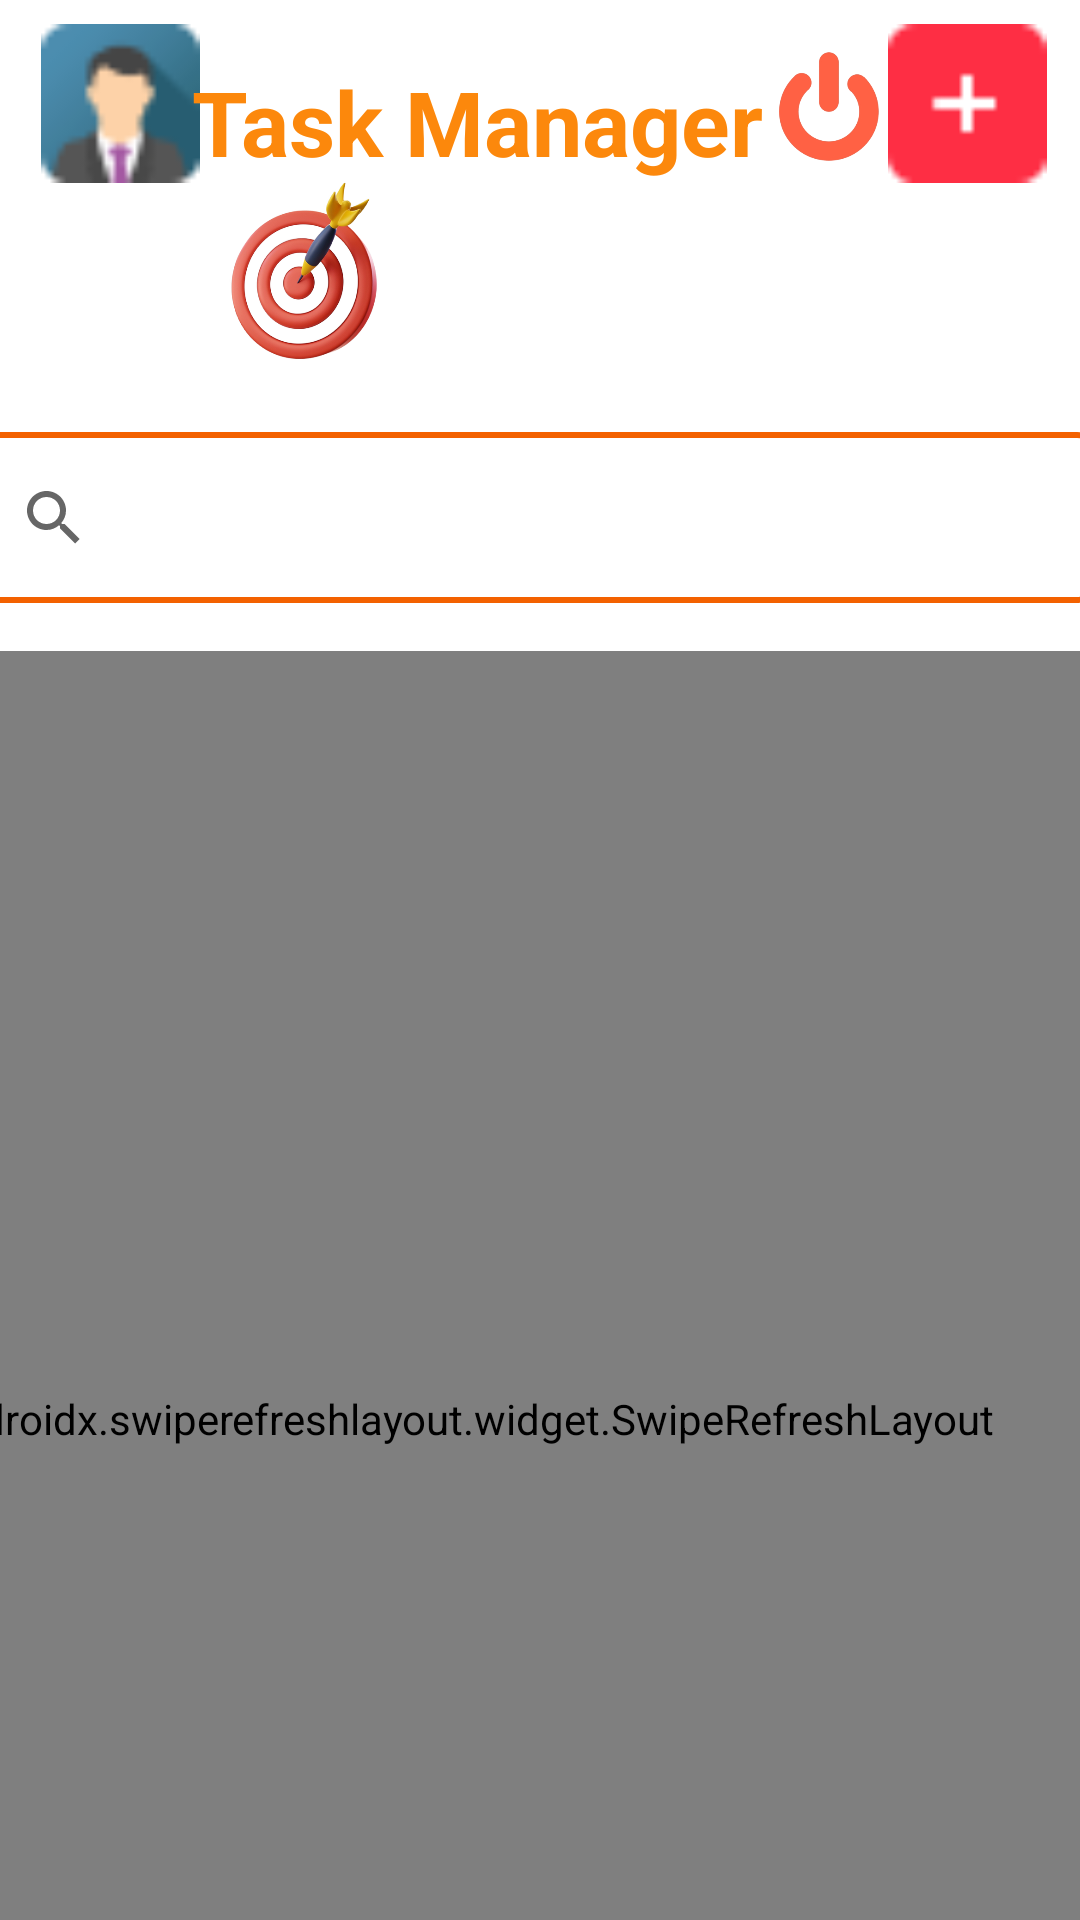

Icons on this 1080px x 1920px Android screen, each with its box as (left=x1, top=y1, right=x2, bottom=y2):
arrow: (left=231, top=183, right=377, bottom=359)
avt: (left=41, top=24, right=200, bottom=183)
